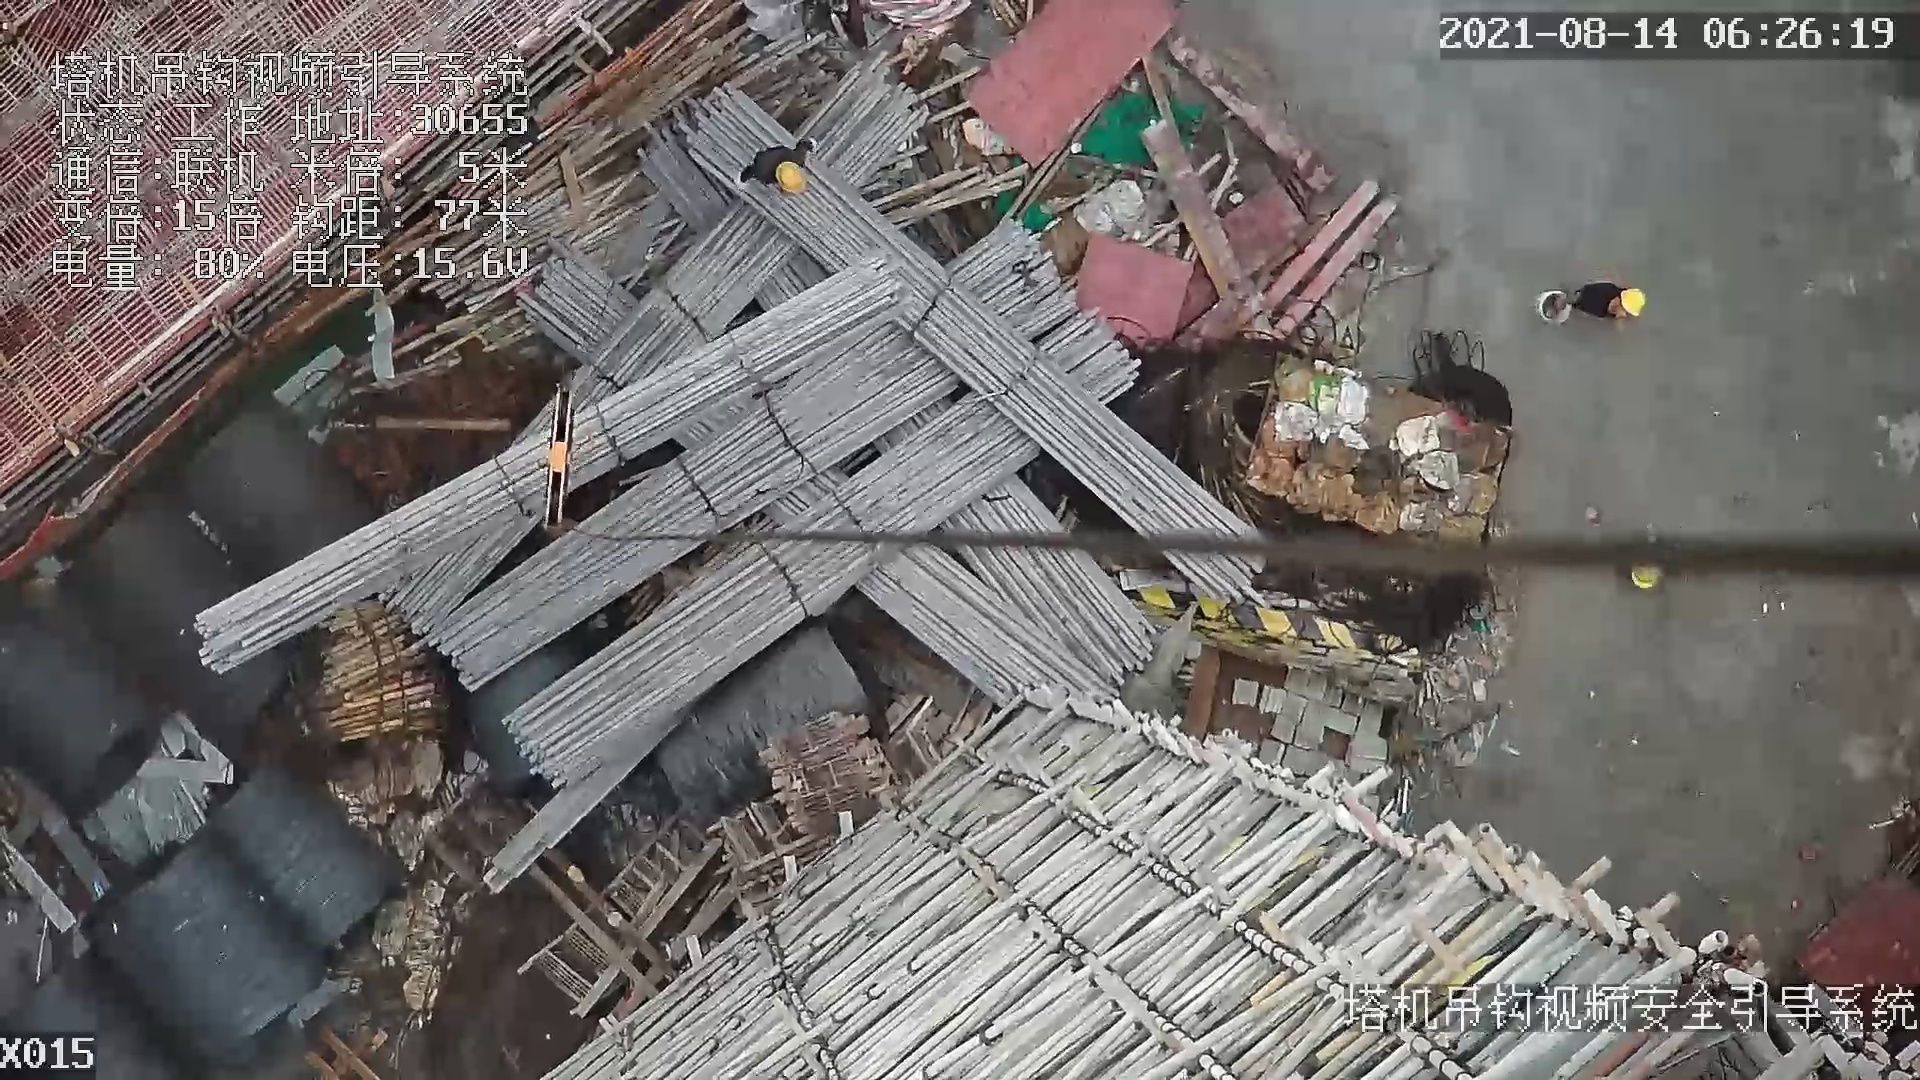helmet: (771, 157, 808, 193), (1618, 282, 1647, 320)
hook: (536, 385, 582, 539)
person: (736, 141, 817, 199), (1559, 278, 1649, 328)
